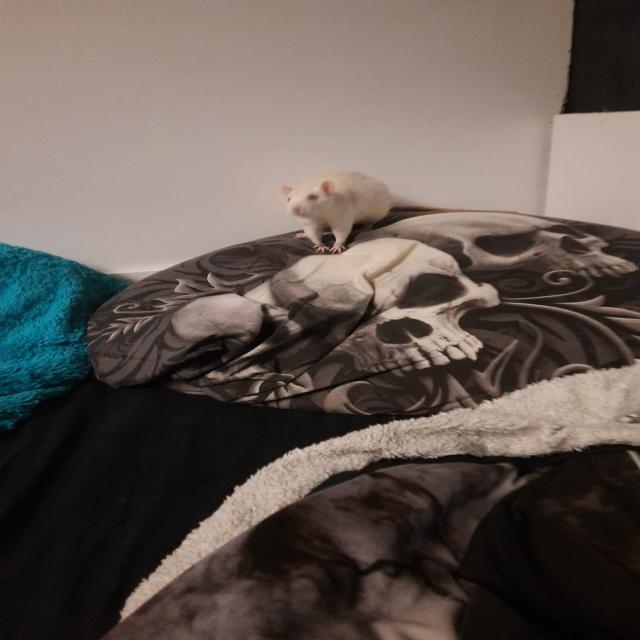rat: (284, 170, 398, 255)
